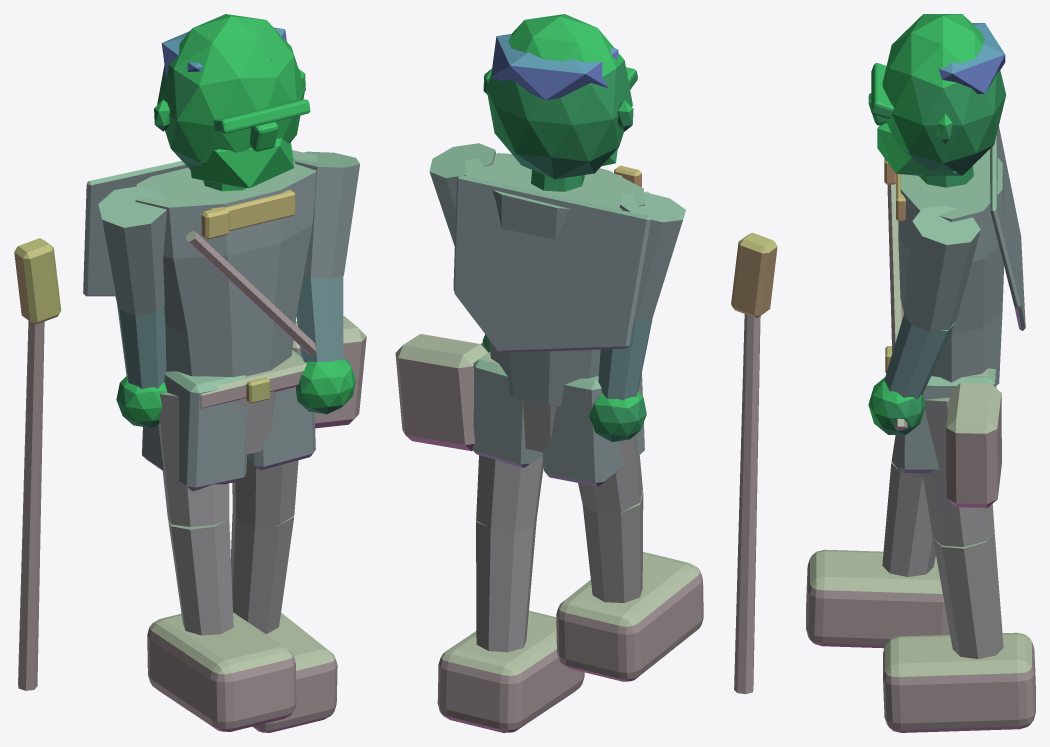
File: npc_scout_passing_r_v01.glb
3 views of the same model, side by side, from view 1: azimuth 30°, elevation 25°; view 2: azimuth 150°, elevation 25°; view 3: azimuth 270°, elevation 25° (orthographic). The views are drawn at different scales.
Visible parts, largest first — view 1: GEO_npc_scout_passing_r_v01; view 2: GEO_npc_scout_passing_r_v01; view 3: GEO_npc_scout_passing_r_v01.
Part boxes in pixels (left/top/right/bottom): GEO_npc_scout_passing_r_v01: left=14, top=14, right=366, bottom=732; GEO_npc_scout_passing_r_v01: left=395, top=14, right=777, bottom=732; GEO_npc_scout_passing_r_v01: left=806, top=14, right=1035, bottom=732.
Bounding box in the file's own units: 1.1 × 2.06 × 0.6278.
